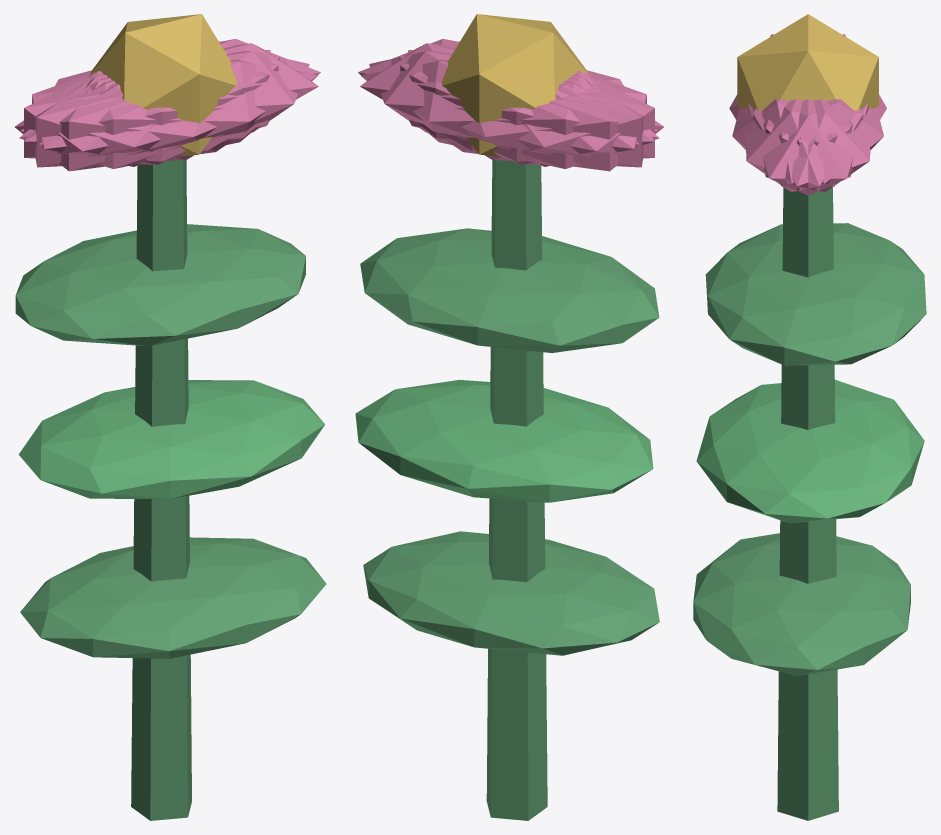
File: ipomoea-indica.glb
3 renders of one model, left to right at view 1: azimuth 30°, elevation 25°; view 2: azimuth 150°, elevation 25°; view 3: azimuth 270°, elevation 25°, orthographic.
Parts seen in each view (by area): view 1: leaf1, leaf0, leaf2, stem, center, petal1, petal6, petal2, petal5, petal7, petal0, petal4 (+2 smaller); view 2: leaf2, leaf1, leaf0, stem, center, petal8, petal3, petal7, petal4, petal2, petal0, petal5 (+2 smaller); view 3: leaf1, leaf2, leaf0, stem, center, petal0, petal4, petal5, petal8, petal1.
Part boxes in pixels (<box>): leaf1: <box>18,380,324,498</box>; leaf0: <box>20,537,326,658</box>; leaf2: <box>15,224,305,346</box>; stem: <box>131,160,191,820</box>; center: <box>90,14,237,156</box>; petal1: <box>19,59,317,168</box>; petal6: <box>14,72,230,171</box>; petal2: <box>35,50,270,167</box>; petal5: <box>39,51,309,161</box>; petal7: <box>24,56,279,164</box>; petal0: <box>89,43,318,150</box>; petal4: <box>20,39,320,141</box>; leaf2: <box>360,228,659,352</box>; leaf1: <box>355,379,653,502</box>; leaf0: <box>363,531,659,655</box>; stem: <box>486,160,547,820</box>; center: <box>441,14,588,156</box>; petal8: <box>360,59,659,168</box>; petal3: <box>447,72,663,171</box>; petal7: <box>408,50,643,167</box>; petal4: <box>369,51,639,161</box>; petal2: <box>399,56,654,164</box>; petal0: <box>360,43,588,150</box>; petal5: <box>358,39,657,141</box>; leaf1: <box>696,379,924,523</box>; leaf2: <box>705,223,926,365</box>; leaf0: <box>693,533,910,675</box>; stem: <box>777,187,838,820</box>; center: <box>737,14,878,110</box>; petal0: <box>747,99,868,195</box>; petal4: <box>753,99,870,191</box>; petal5: <box>745,99,863,191</box>; petal8: <box>763,99,883,183</box>; petal1: <box>732,99,852,183</box>.
Bounding box in the file's own units: 0.1452 × 0.3702 × 0.101.
